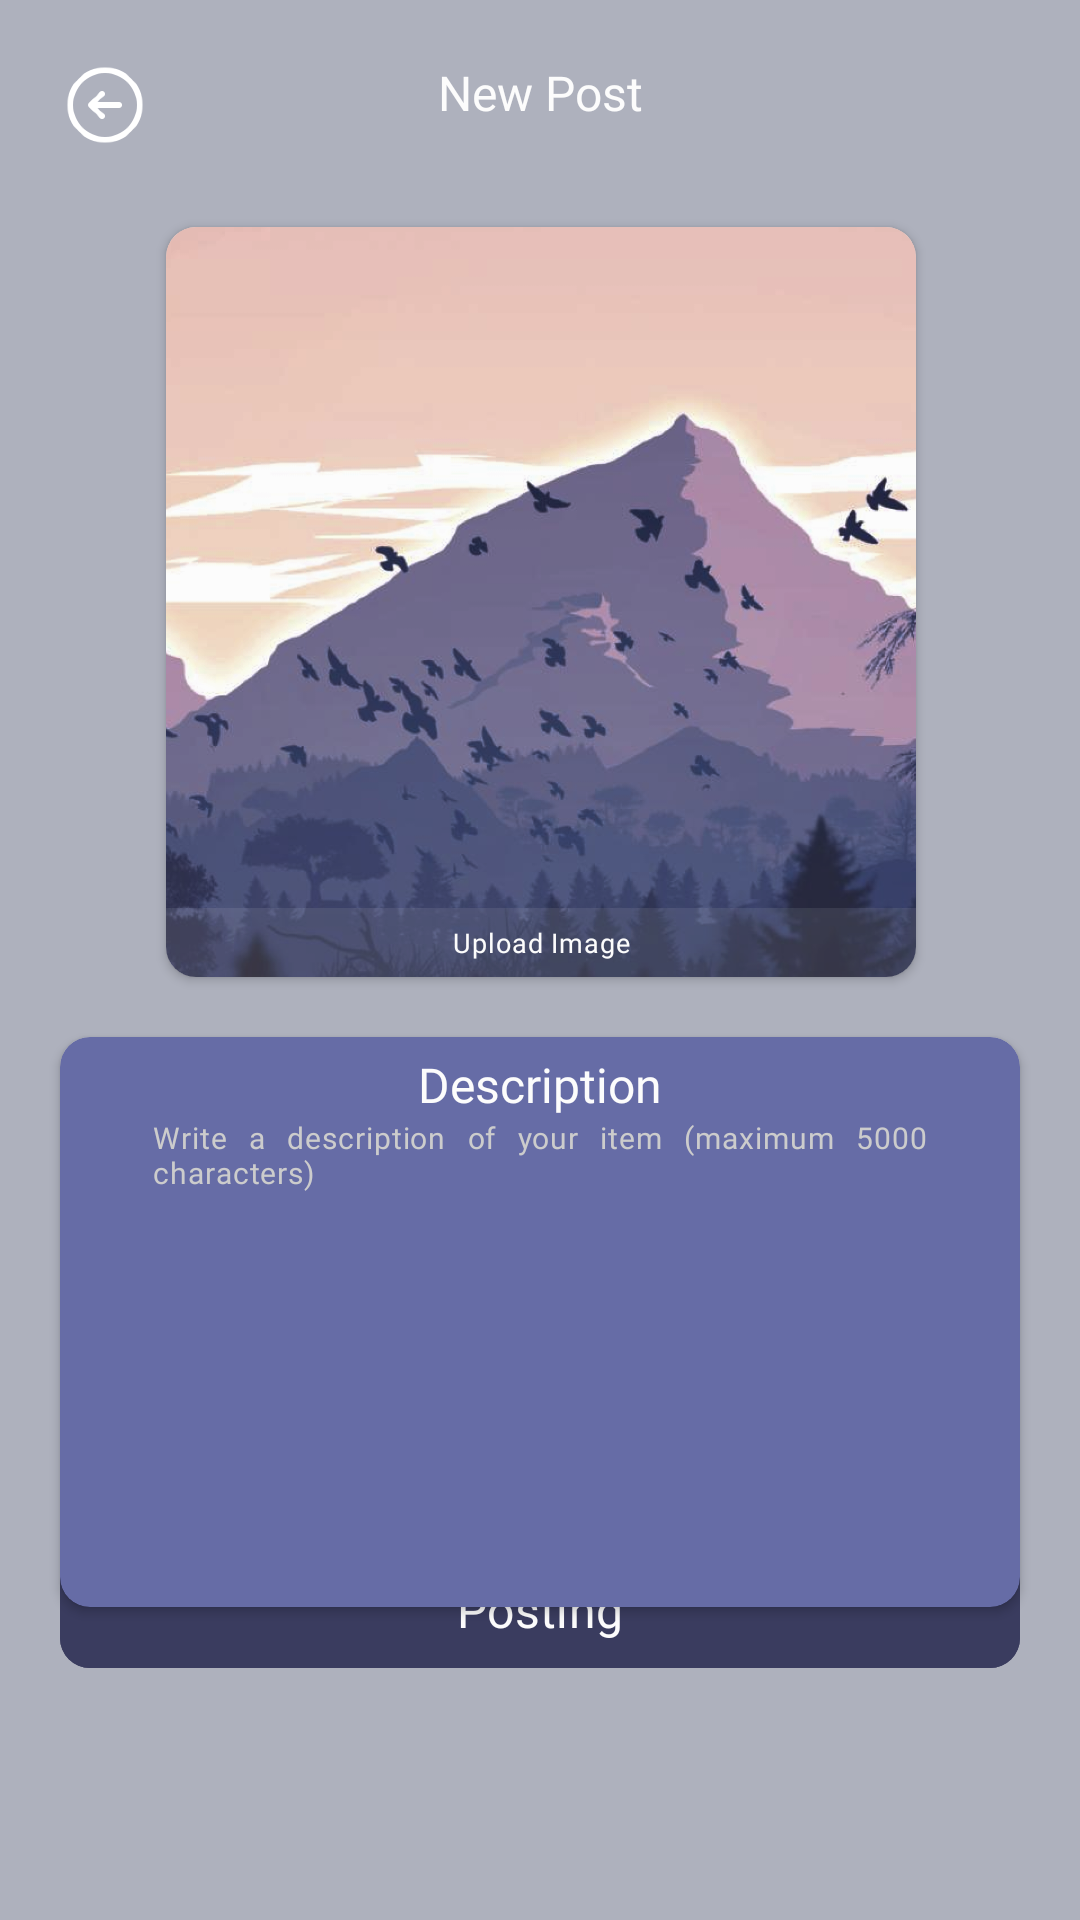

Named icons in this screenshot (1080px x 1920px) and their centers, (x=x, y=y):
back: (x=105, y=105)
